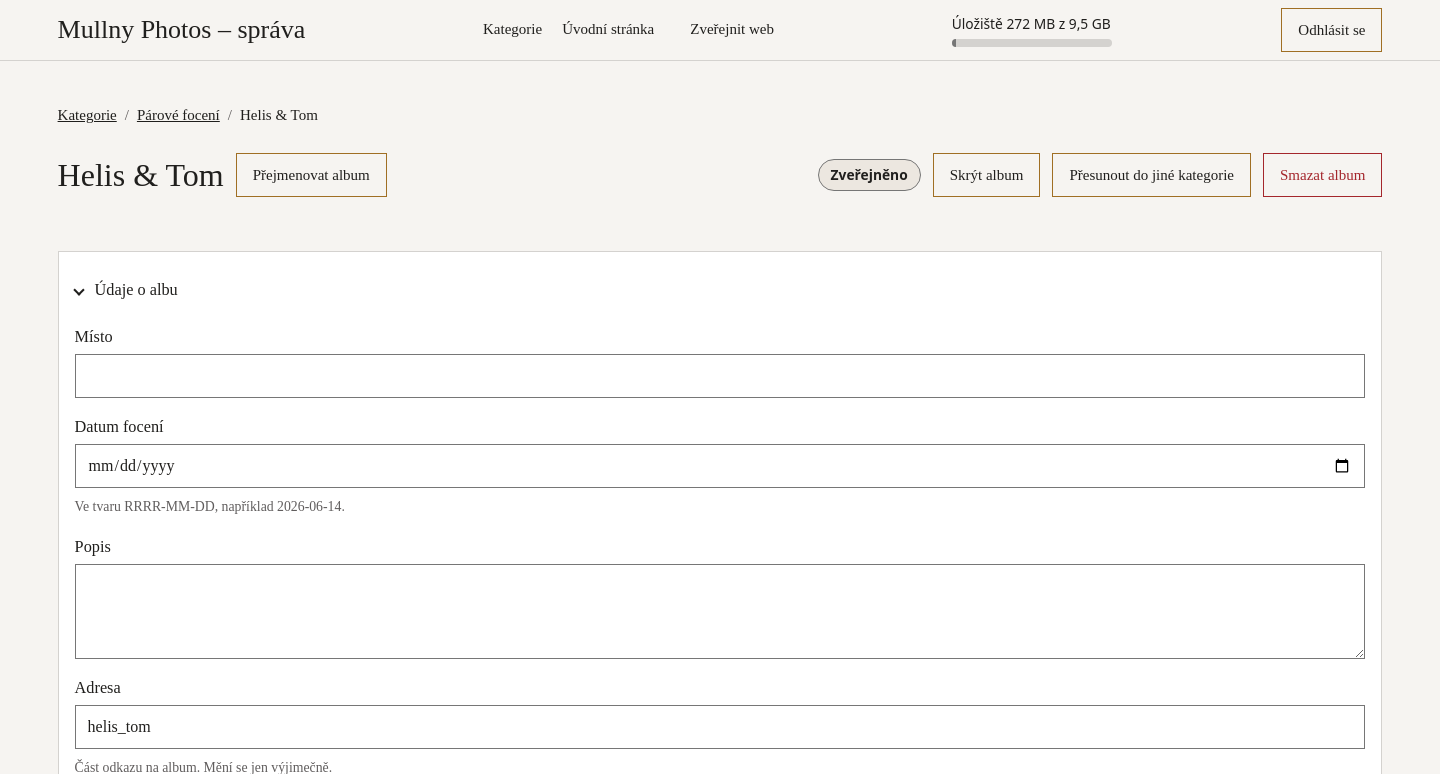
Test: delete album › a failed chunk keeps the album, says so and offers "Skrýt album"
Expected: the heading "Helis & Tom" is shown, [58,156,224,194]
Click the button "Smazat album". click: [1323, 175]
box: [1263,153,1382,197]
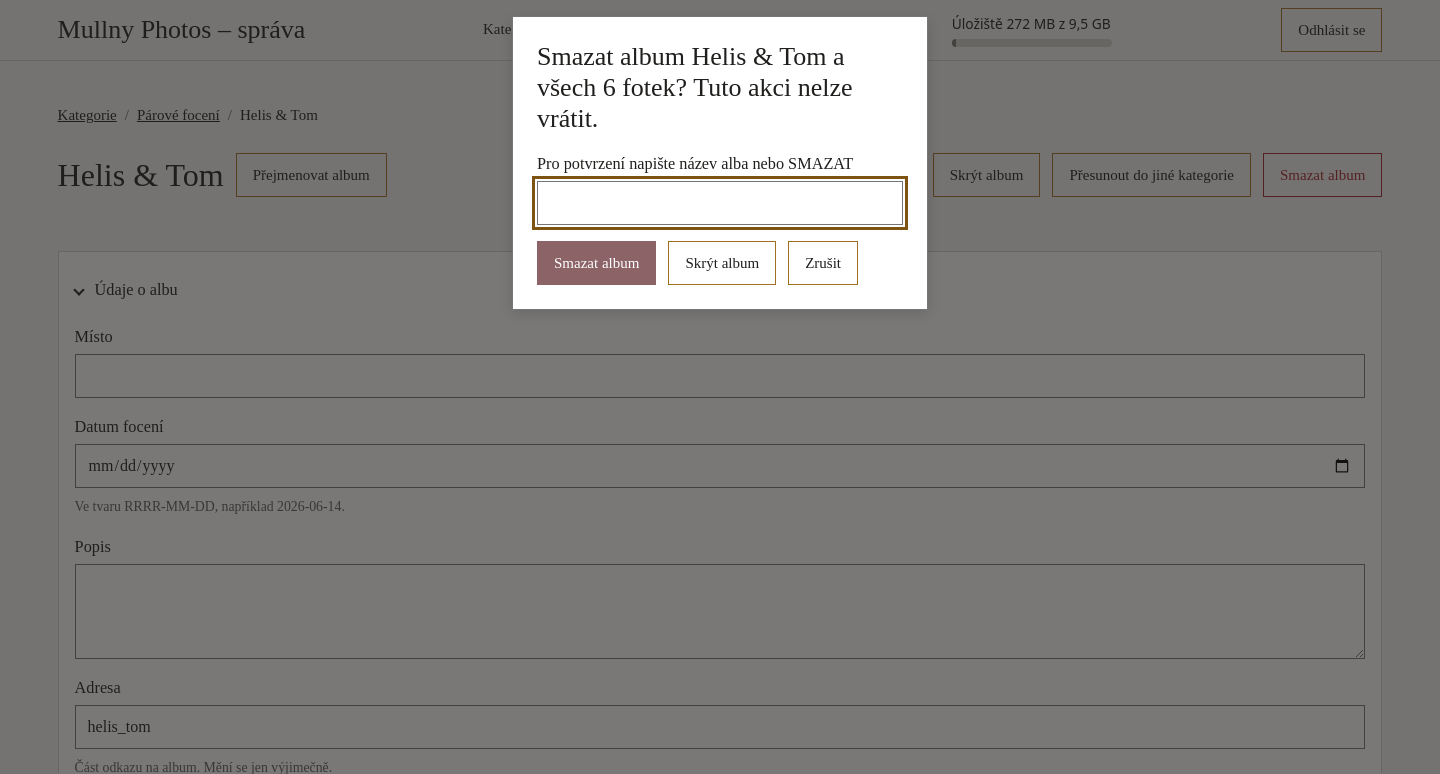
Type "SMAZAT" into the field labelled "Pro potvrzení napište název alba nebo SMAZAT". click: [720, 203]
box: [537,181,903,225]
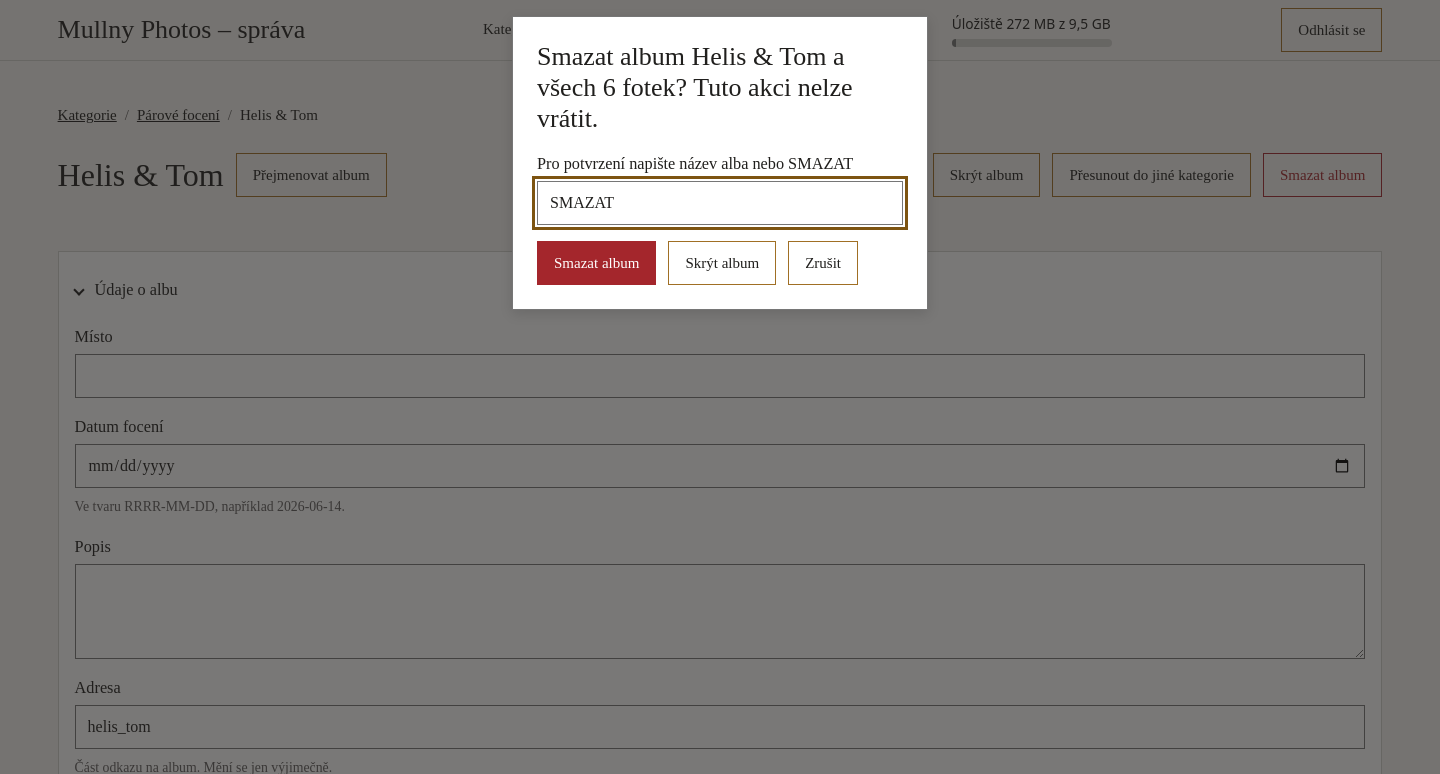
Click the button "Smazat album". click: [597, 263]
box: [537,241,656,285]
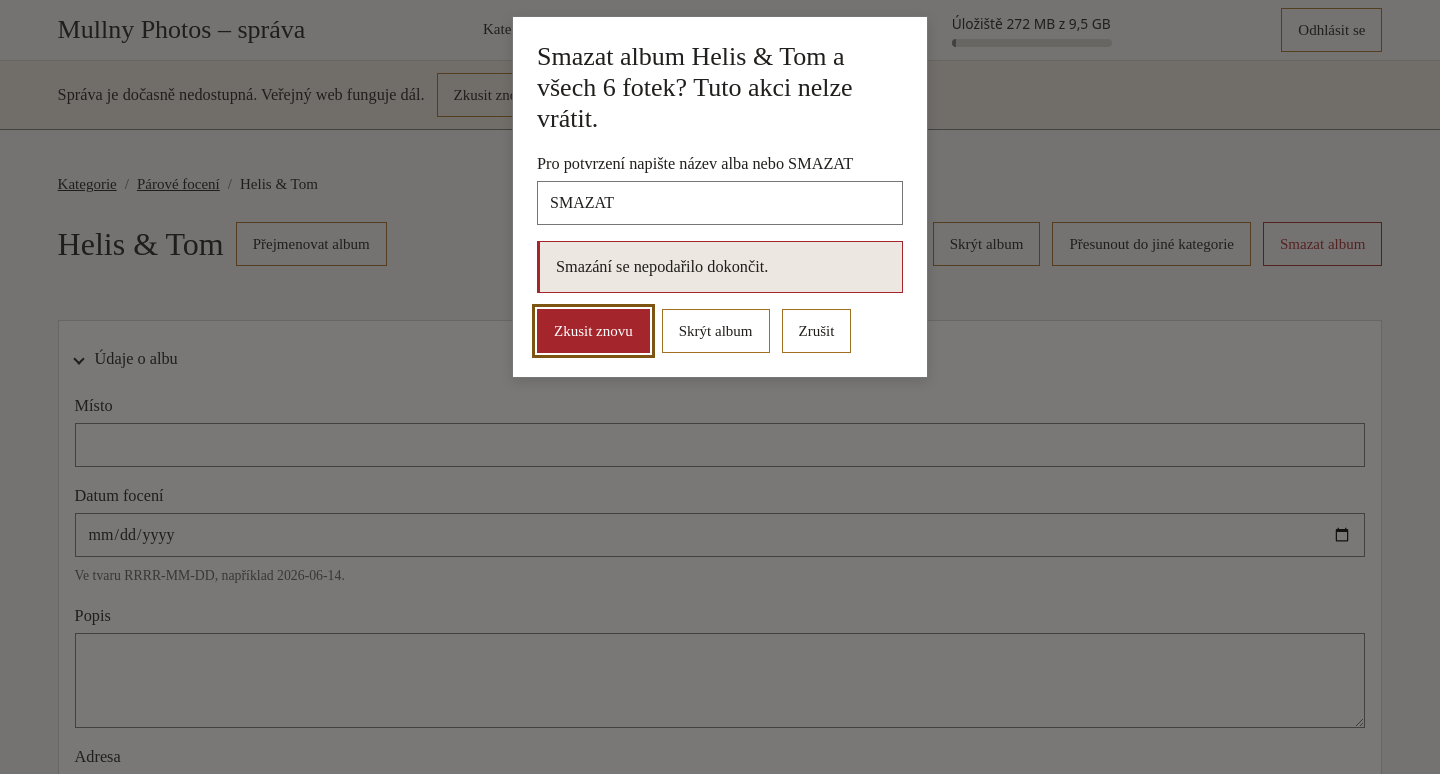
Now the message "Smazání se nepodařilo dokončit." is shown, box [537,241,903,293]
Click the button "Skrýt album". click: [716, 331]
box: [662,309,770,353]
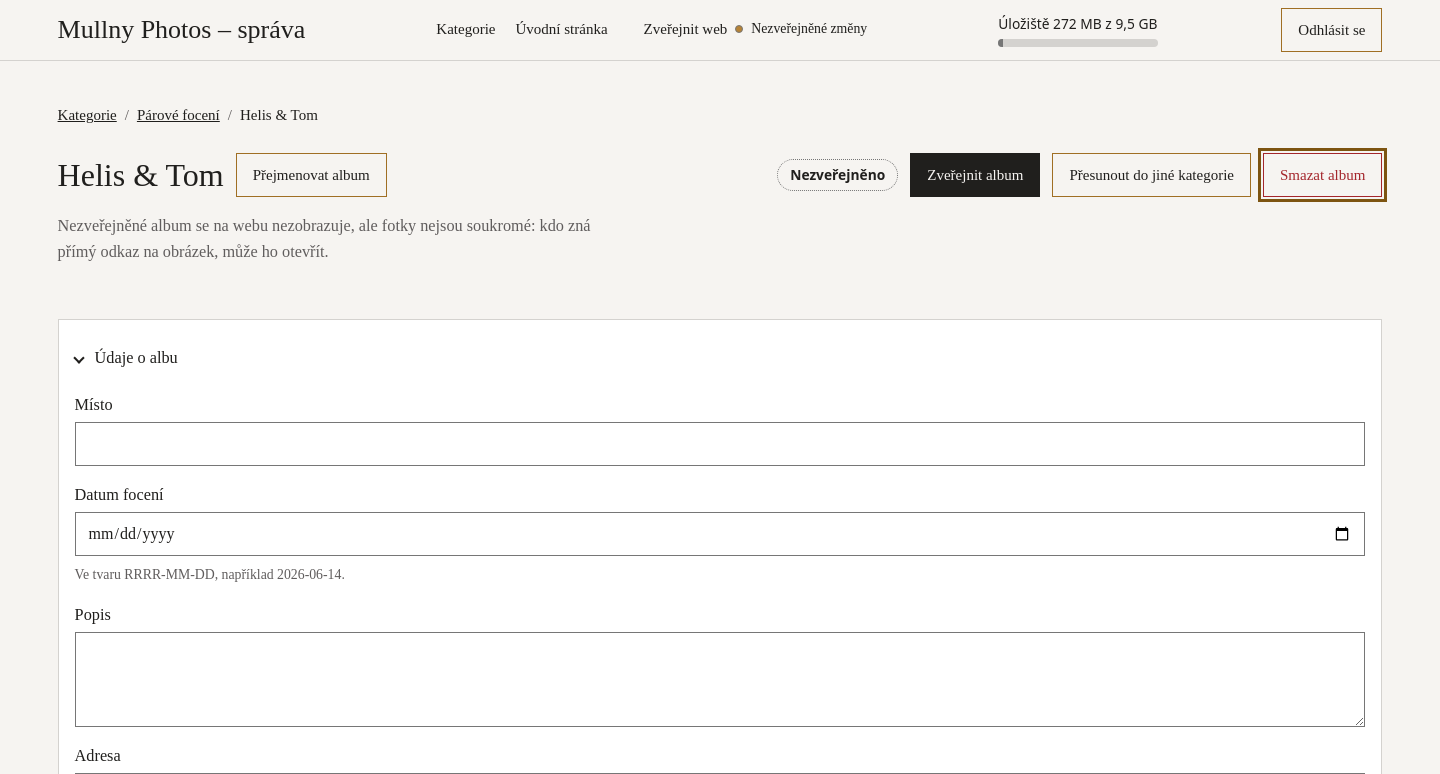
Now the dialog is gone
